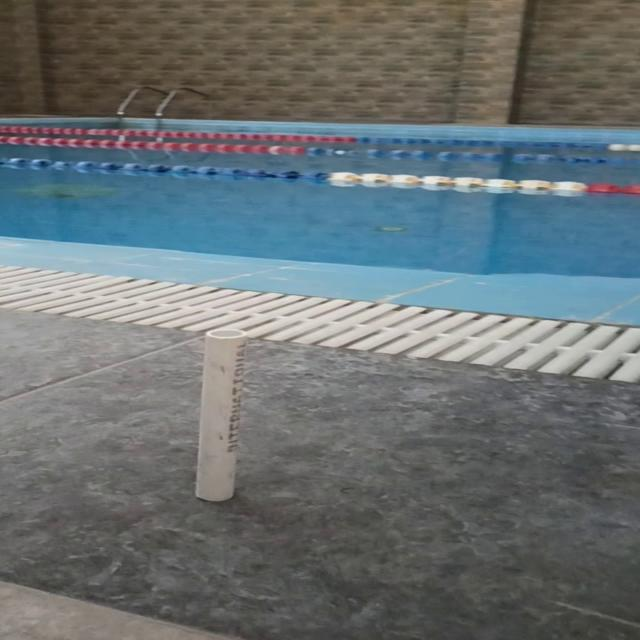Cube: (192, 328, 248, 502)
